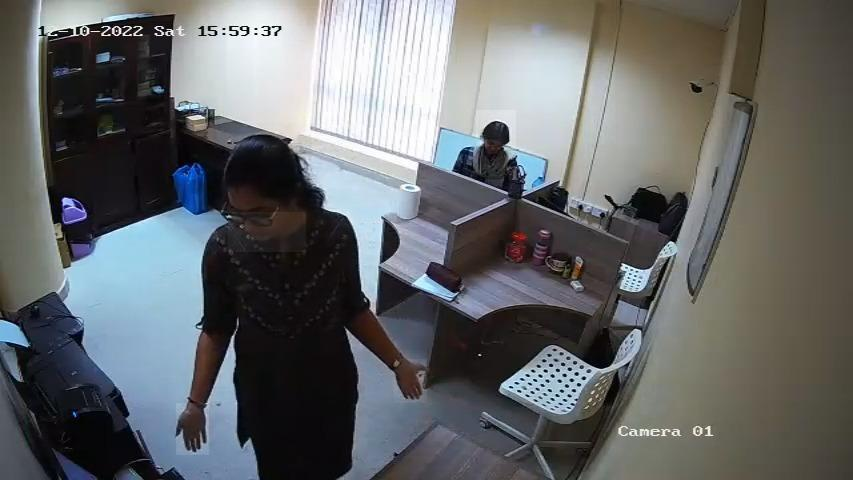no_apron: (177, 404, 210, 456), (394, 360, 427, 404)
no_gloves: (214, 123, 312, 198), (476, 110, 516, 146)
no_hairnet: (228, 213, 306, 253), (476, 138, 511, 165)
